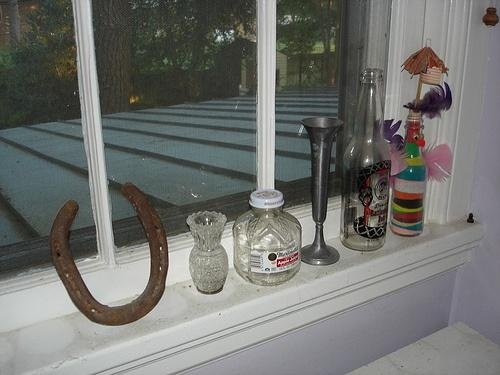bottle: (344, 69, 392, 250), (395, 109, 427, 235)
